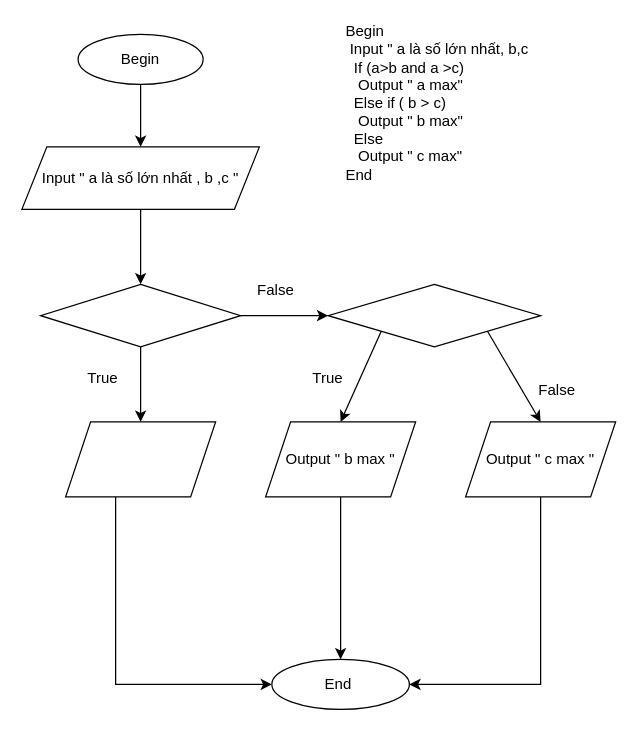
Image size: 638x731. Some labels were removed from this diagram. The centre of each missing label's shape, as x and y in pixels:
If ( b > c): pixel 434 315
If (a > b and a > c): pixel 140 315
Output " a max ": pixel 140 459
